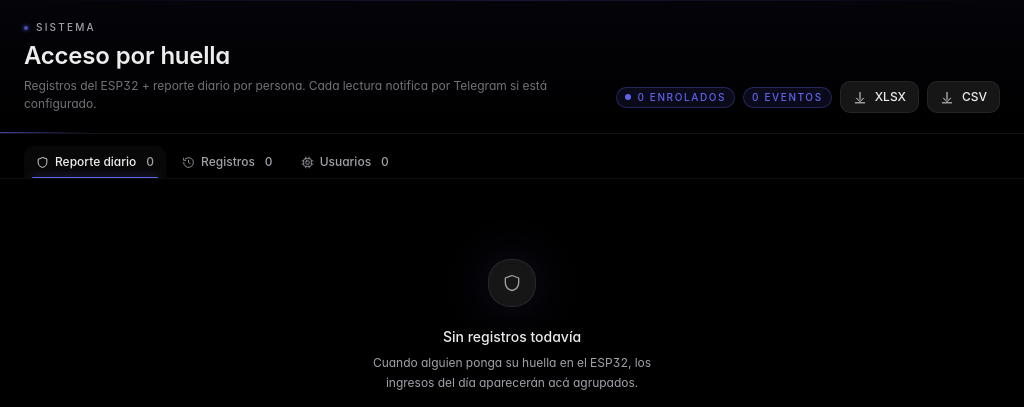
Scenario: AccessPanel — orquestador › cambia a la tab Usuarios al clickearla
Click the button "Usuarios 0" at point(345, 162), box [289,146,401,178]
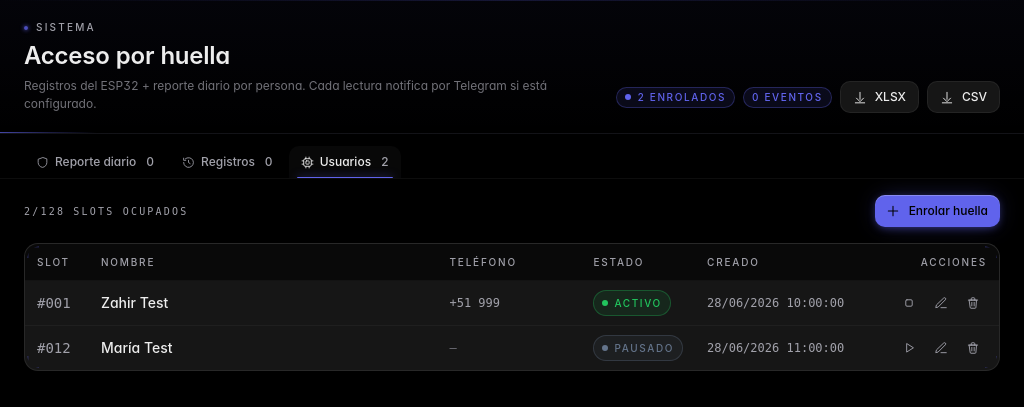
Expected: the text "2/128 slots ocupados" is shown, [24,204,188,218]
